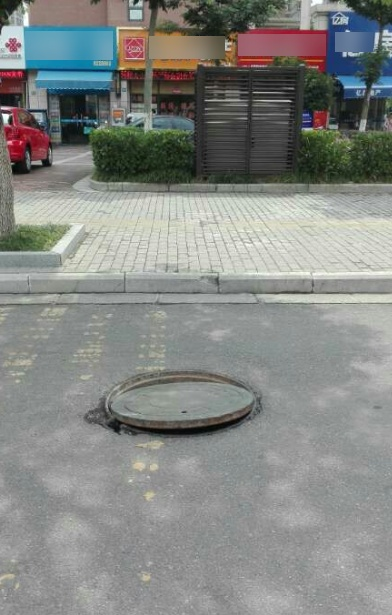well: (99, 368, 262, 438)
